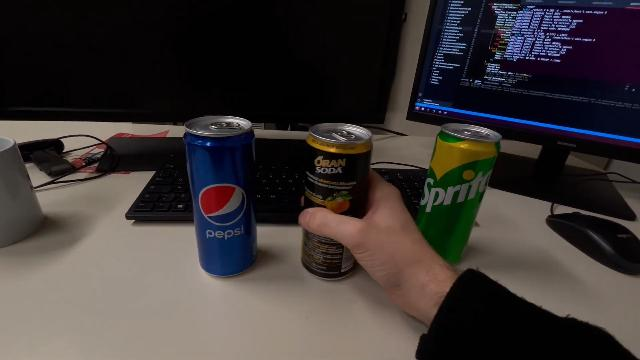OranSoda: (302, 122, 374, 284)
Pepsi: (180, 115, 262, 280)
Sprite: (414, 120, 504, 268)
